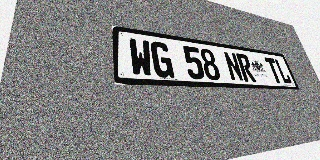5: (182, 45, 206, 80)
8: (199, 48, 221, 80)
G: (150, 41, 175, 78)
L: (274, 59, 293, 84)
N: (223, 51, 244, 82)
R: (236, 53, 257, 82)
T: (264, 57, 283, 83)
W: (128, 38, 154, 77)
